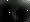person: (13, 7, 18, 20)
